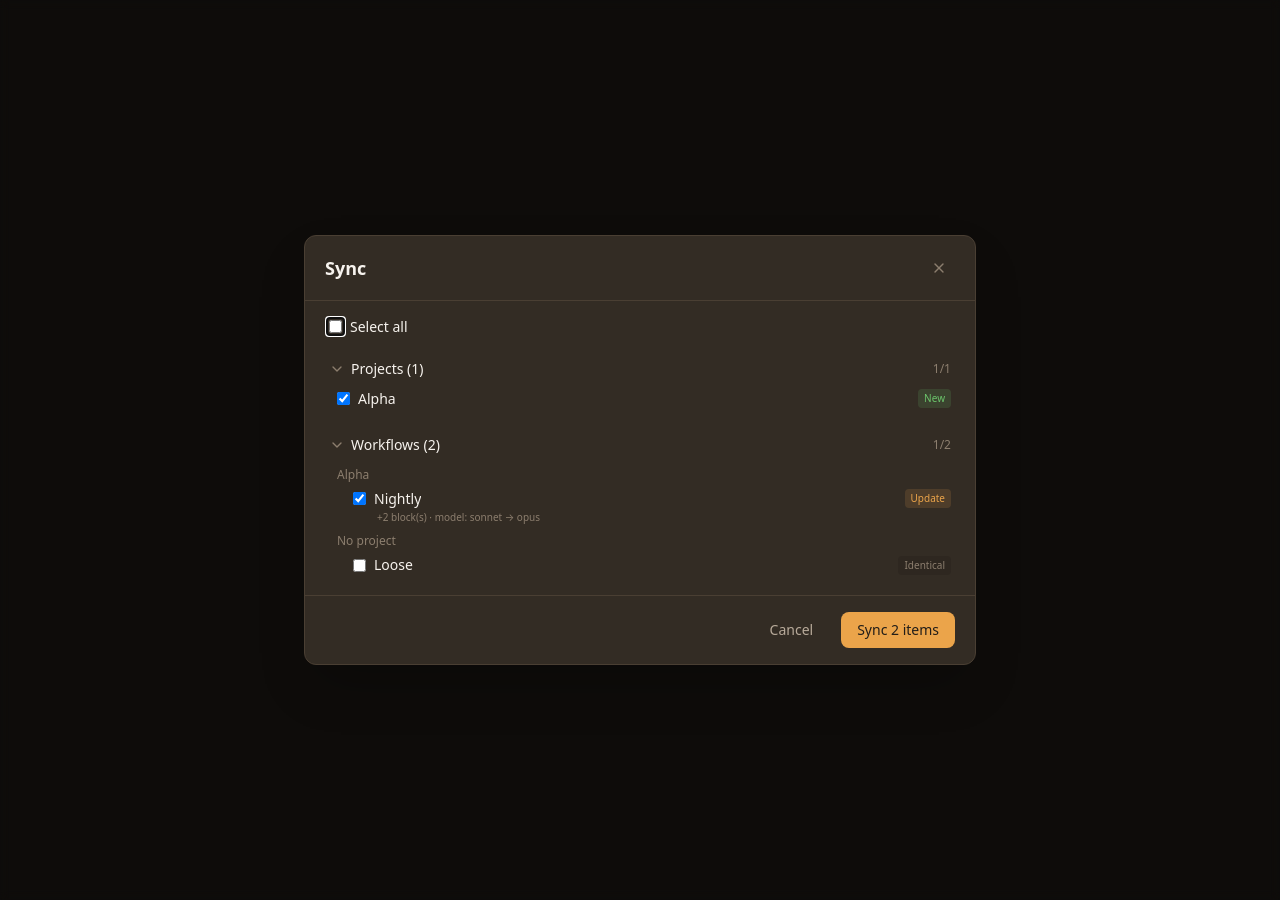
Scenario: SyncSelectModal › collapses a section and selects everything at once
The image size is (1280, 900).
Step 1. Click the text "Projects (1)" → (387, 369), box x1=351 y1=359 x2=424 y2=379
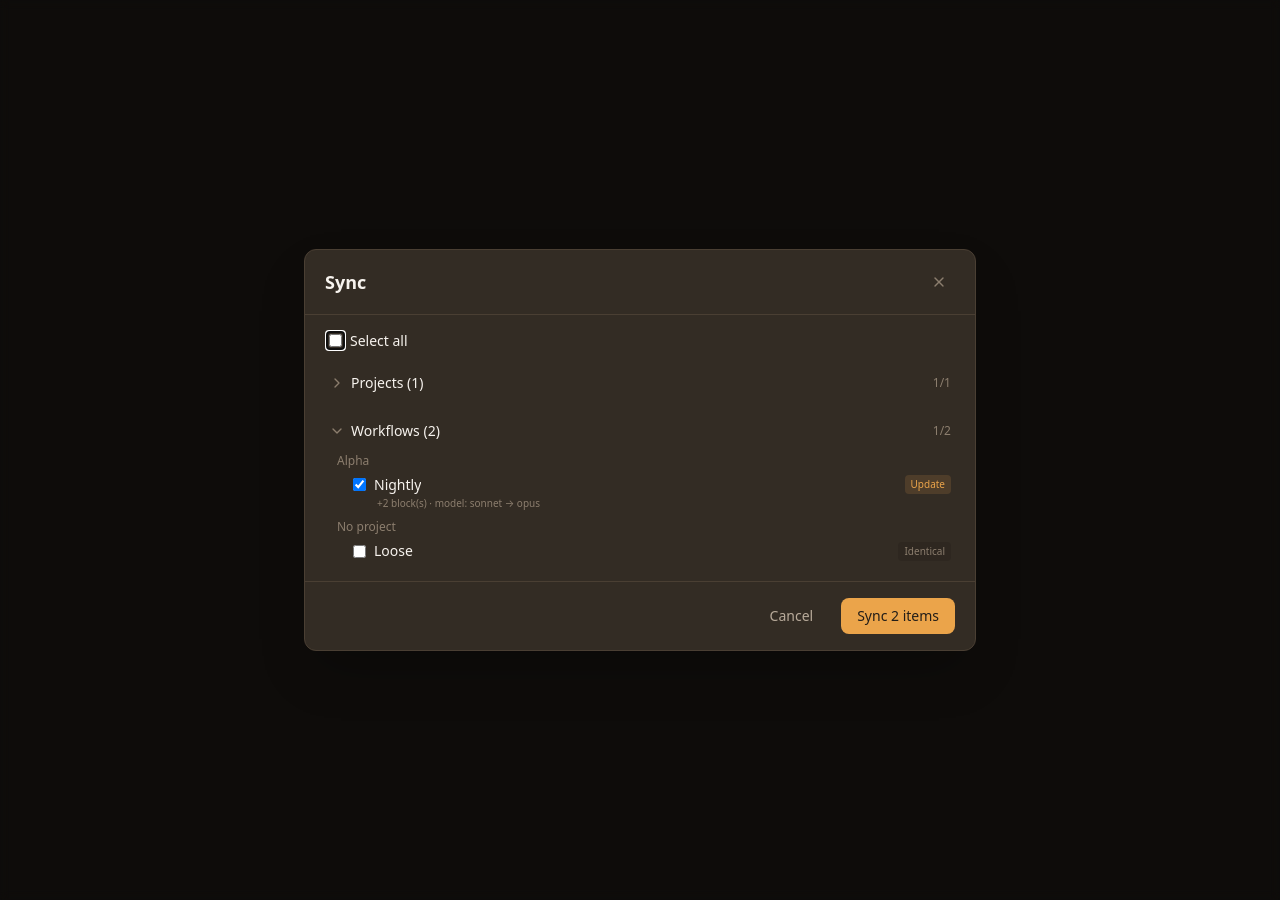
Step 2. Click the checkbox labelled "Select all" → (336, 341), box x1=329 y1=334 x2=342 y2=347
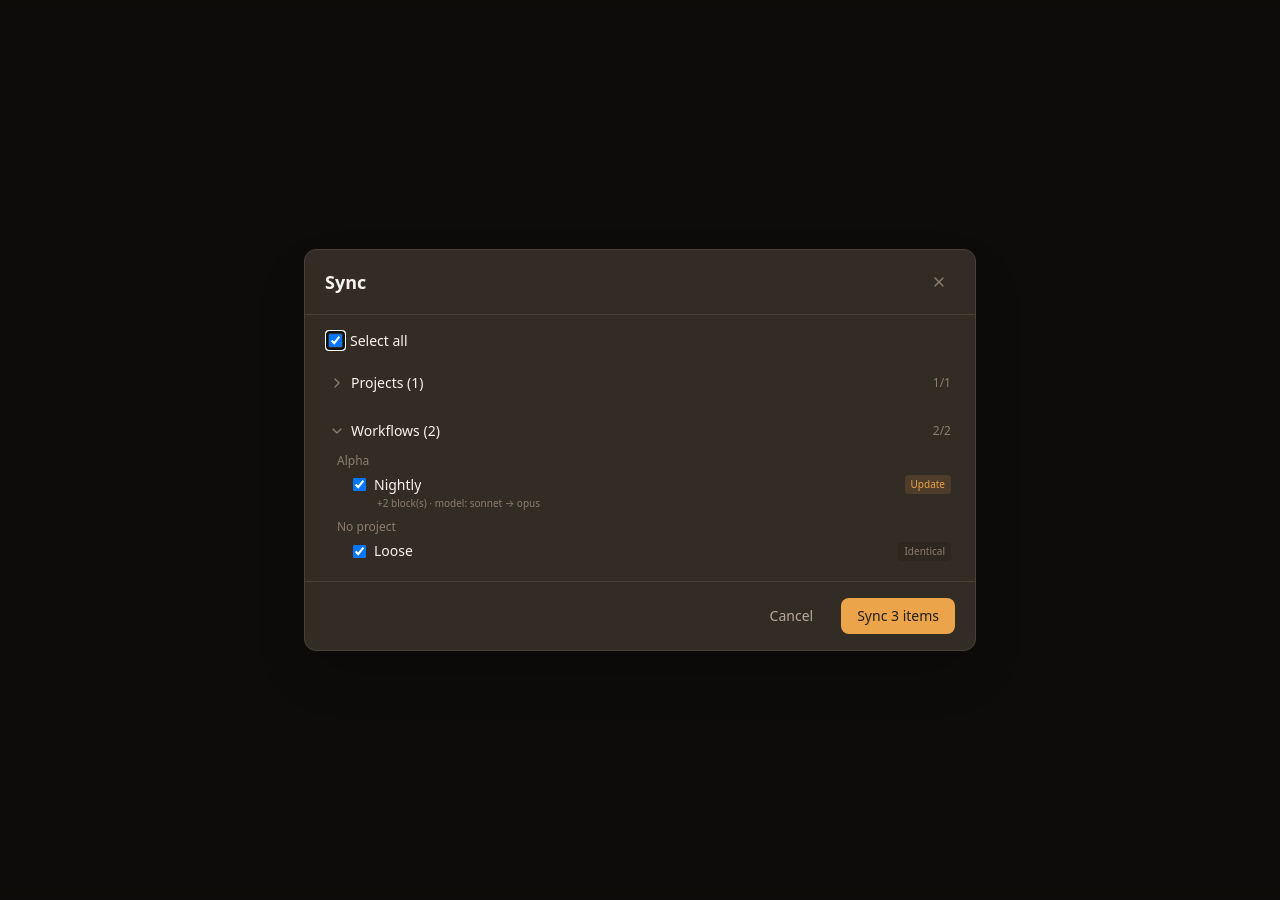
Now the checkbox labelled "Loose Identical" is checked, box x1=353 y1=545 x2=366 y2=558
